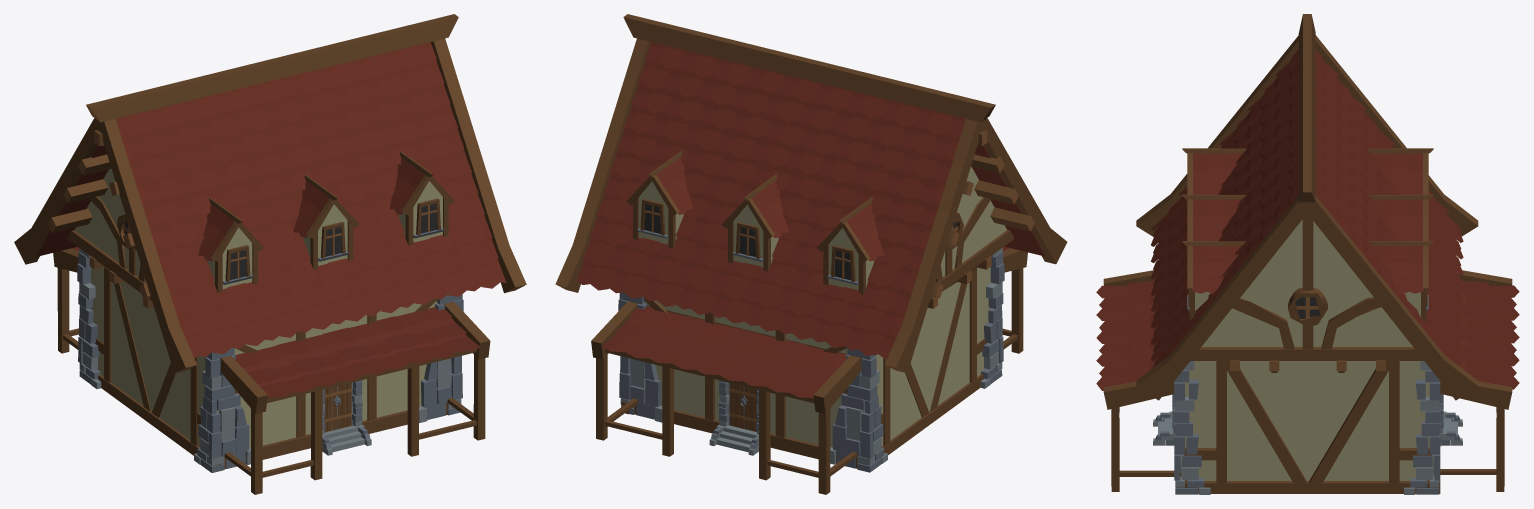
Rendered from v_inn.glb.
The picture shows the model from 3 angles, left to right: view 1: azimuth 30°, elevation 25°; view 2: azimuth 150°, elevation 25°; view 3: azimuth 270°, elevation 25°; orthographic projection.
Parts seen in each view (by area): view 1: Inn; view 2: Inn; view 3: Inn.
Part boxes in pixels (x1,y1,x2,y2): Inn: (14,14,526,494); Inn: (555,14,1067,494); Inn: (1096,14,1519,494).
Bounding box in the file's own units: 4.03 × 3.49 × 4.02.
